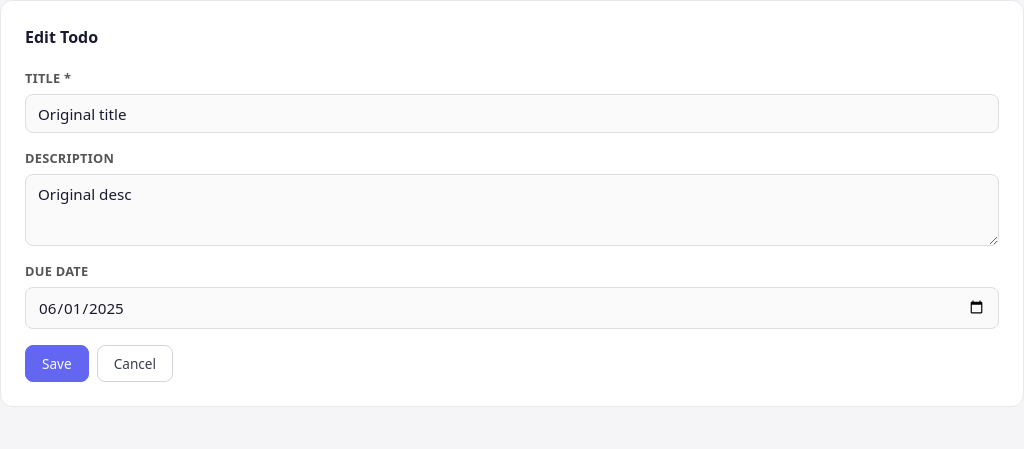
Test: EditForm › shows title required error when submitted empty
Clear the field labelled "Title *". click: (512, 114)
box: [25,94,999,133]
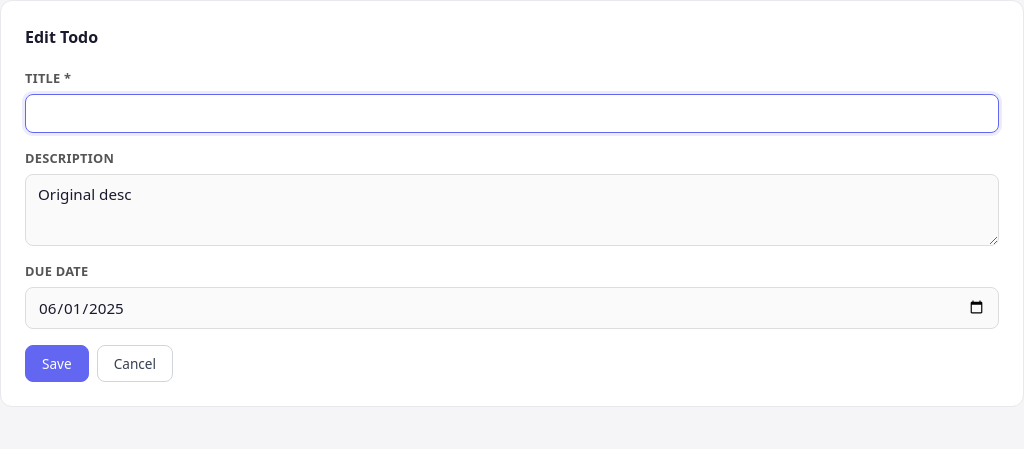
Click the button "Save". click: (57, 363)
box: [25,344,89,382]
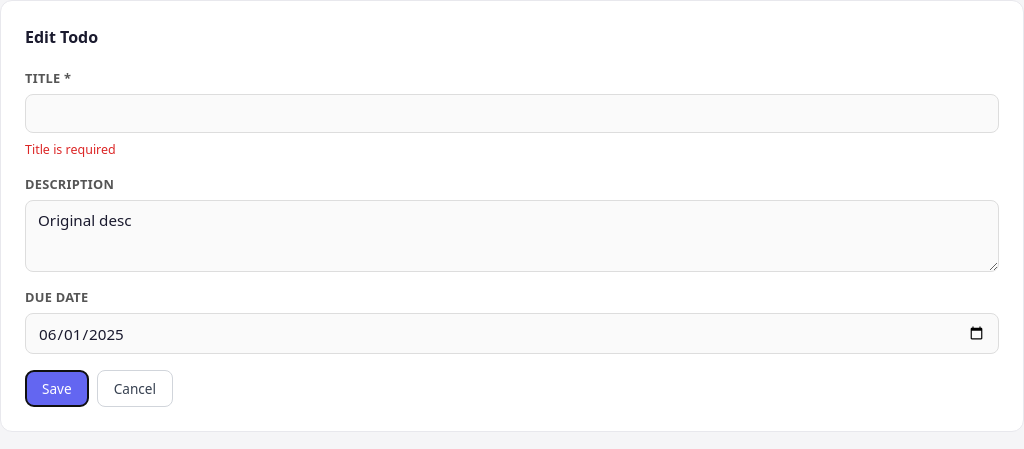
Result: the text "Title is required" is shown at [25,141,116,158]
